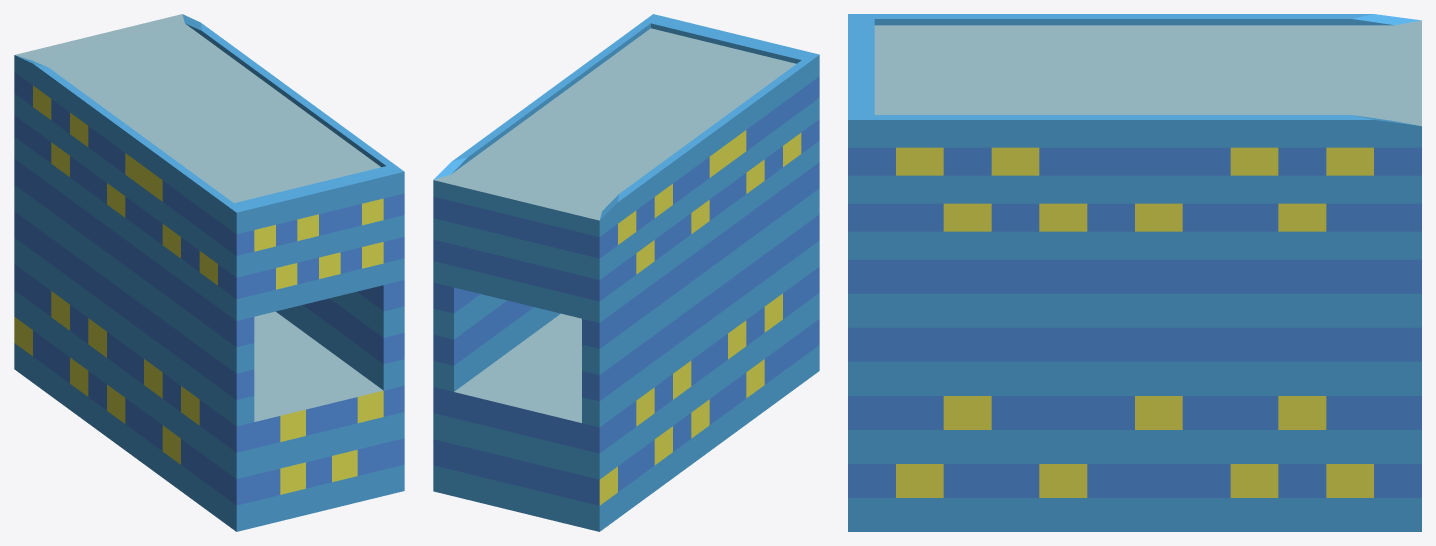
The model's file is Bina.fbx.
3 views of the same model, side by side, from view 1: azimuth 30°, elevation 25°; view 2: azimuth 150°, elevation 25°; view 3: azimuth 270°, elevation 25° (orthographic). The views are drawn at different scales.
Parts seen in each view (by area): view 1: Cube, Cube.004, Cube.005, Cube.003; view 2: Cube, Cube.004, Cube.005, Cube.003; view 3: Cube, Cube.004, Cube.005, Cube.003.
Boxes of the visible parts, x1,y1,x2,y2 form: Cube: [14, 14, 404, 531]; Cube.004: [14, 72, 404, 505]; Cube.005: [15, 14, 382, 421]; Cube.003: [14, 85, 383, 494]; Cube: [433, 14, 819, 531]; Cube.004: [433, 76, 819, 505]; Cube.005: [434, 28, 796, 422]; Cube.003: [599, 130, 801, 505]; Cube: [848, 14, 1421, 531]; Cube.004: [848, 147, 1421, 497]; Cube.005: [874, 20, 1421, 126]; Cube.003: [896, 147, 1373, 497].
Size of the model in its own units: 291 by 529 by 667.
